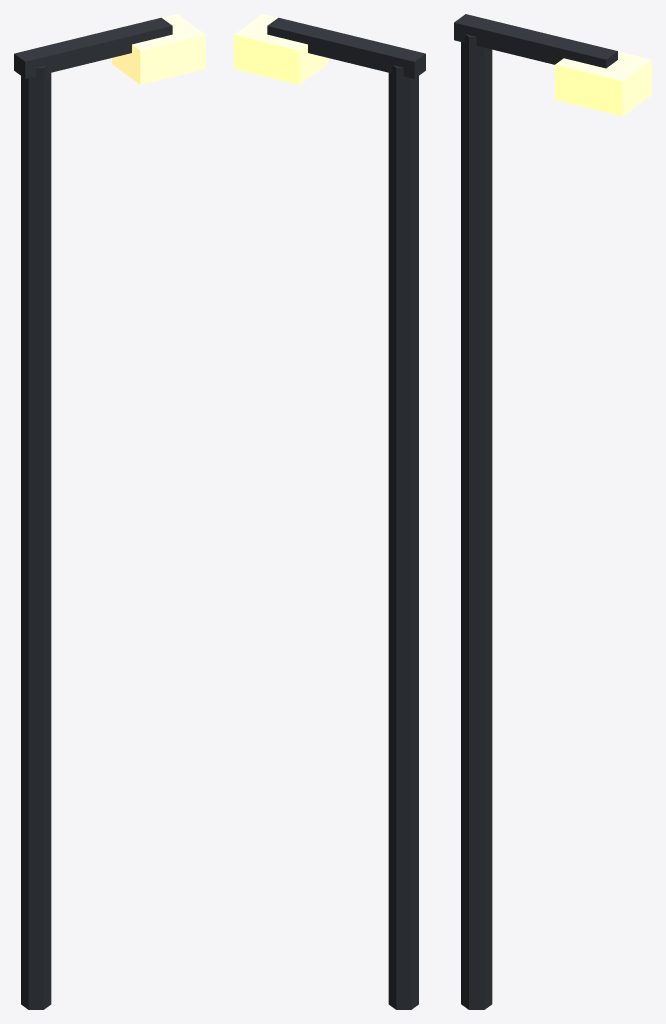
The model's file is gatlykta_tex.glb.
3 renders of one model, left to right at view 1: azimuth 30°, elevation 25°; view 2: azimuth 150°, elevation 25°; view 3: azimuth 330°, elevation 25°, orthographic. The views are drawn at different scales.
Parts seen in each view (by area): view 1: gatlykta; view 2: gatlykta; view 3: gatlykta.
Part boxes in pixels (x1,y1,x2,y2): gatlykta: [14, 14, 205, 1009]; gatlykta: [234, 14, 425, 1009]; gatlykta: [454, 14, 651, 1009].
Size of the model in its own units: 1.05 by 5.55 by 0.3.
